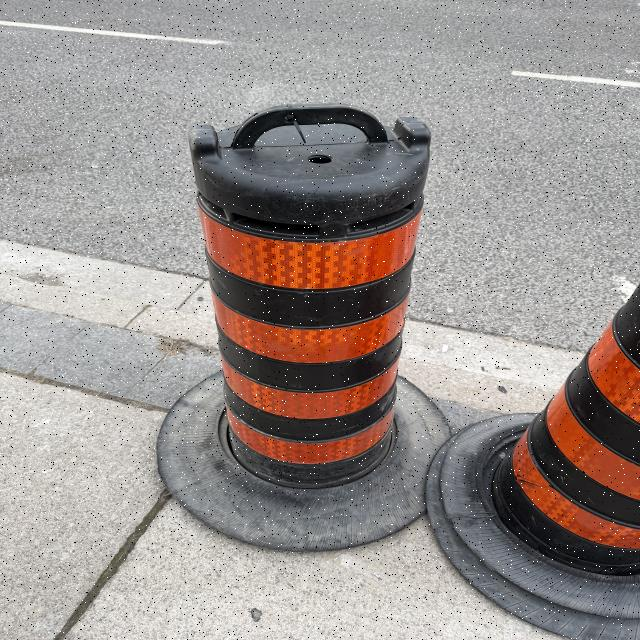Teraffic Barrel: (158, 105, 448, 549), (427, 287, 640, 640)
